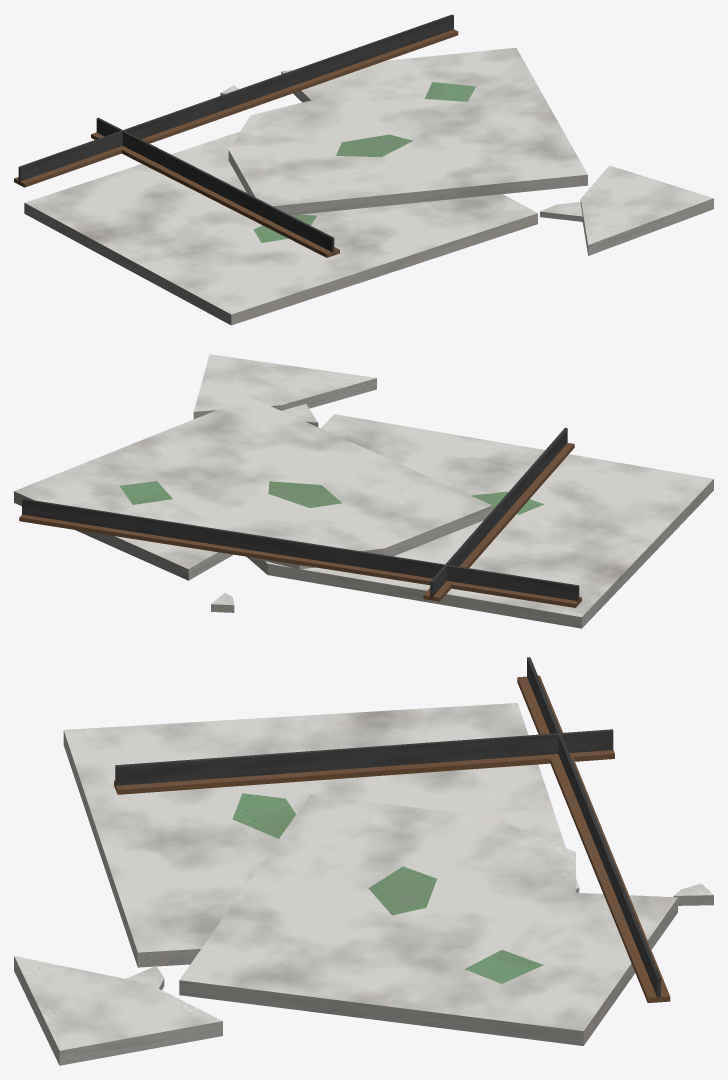
Rendered from D35_fallen_ceiling_tiles_v2.glb.
The picture shows the model from 3 angles, top to bottom: view 1: azimuth 30°, elevation 25°; view 2: azimuth 150°, elevation 25°; view 3: azimuth 270°, elevation 25°; orthographic projection. The views are drawn at different scales.
Visible parts, largest first — view 1: Lower_square_tile; view 2: Lower_square_tile; view 3: Lower_square_tile.
Boxes of the visible parts, left/top/right/bottom form: Lower_square_tile: left=14, top=14, right=713, bottom=325; Lower_square_tile: left=14, top=354, right=713, bottom=628; Lower_square_tile: left=14, top=657, right=713, bottom=1065.
Bounding box in the file's own units: 1 × 0.0799 × 0.8465.
Materials: 5 (5 with a texture image).
